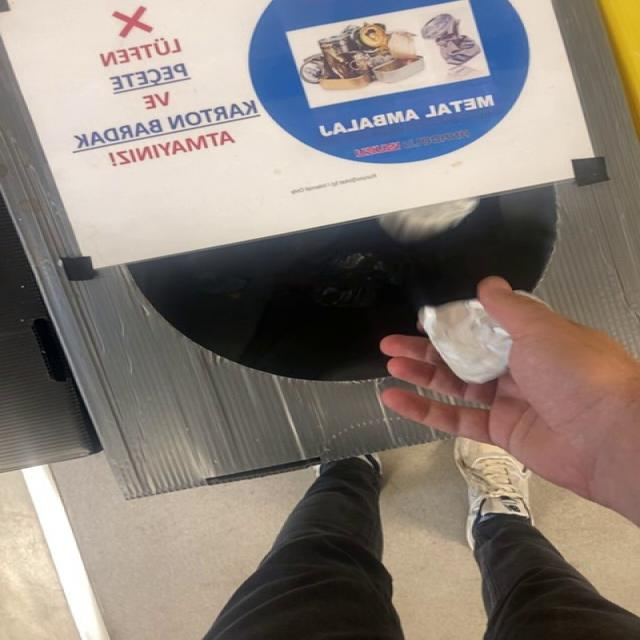bin: (0, 0, 637, 498)
metal: (419, 299, 512, 384)
